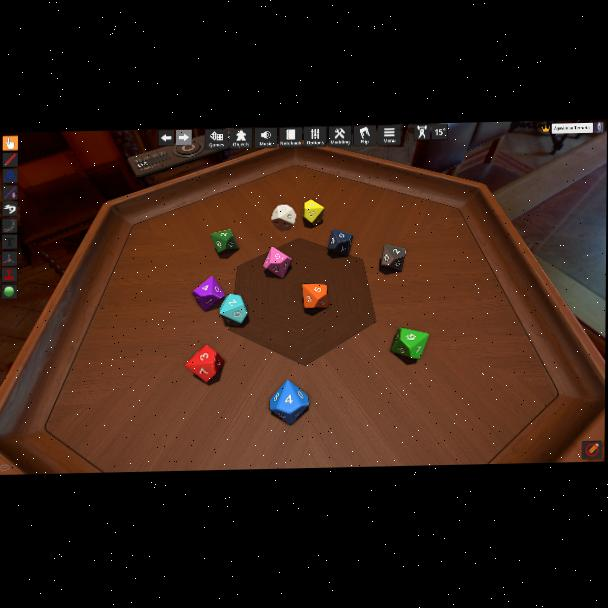d10: (269, 379, 309, 424), (186, 343, 224, 381), (190, 275, 223, 312), (390, 326, 427, 359), (219, 293, 248, 325), (263, 246, 291, 279), (378, 244, 404, 273), (327, 228, 351, 257), (272, 203, 297, 230), (301, 283, 326, 309), (210, 229, 237, 253), (303, 199, 323, 225)
